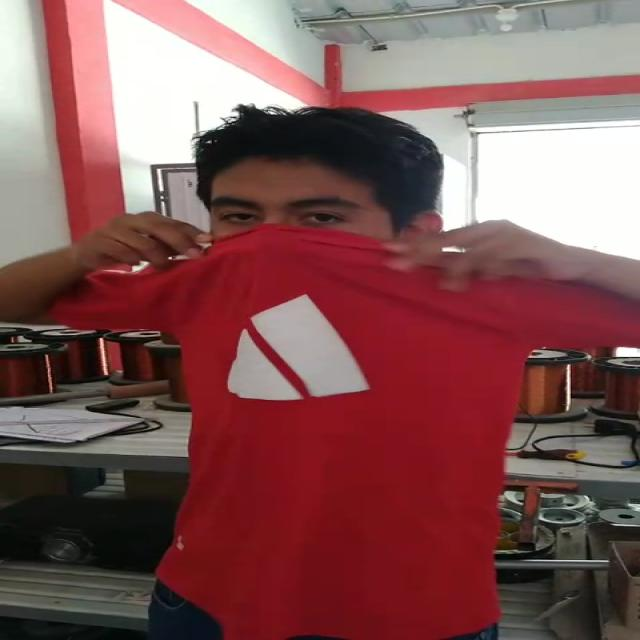8_ropa_rostro: (91, 222, 574, 341)
